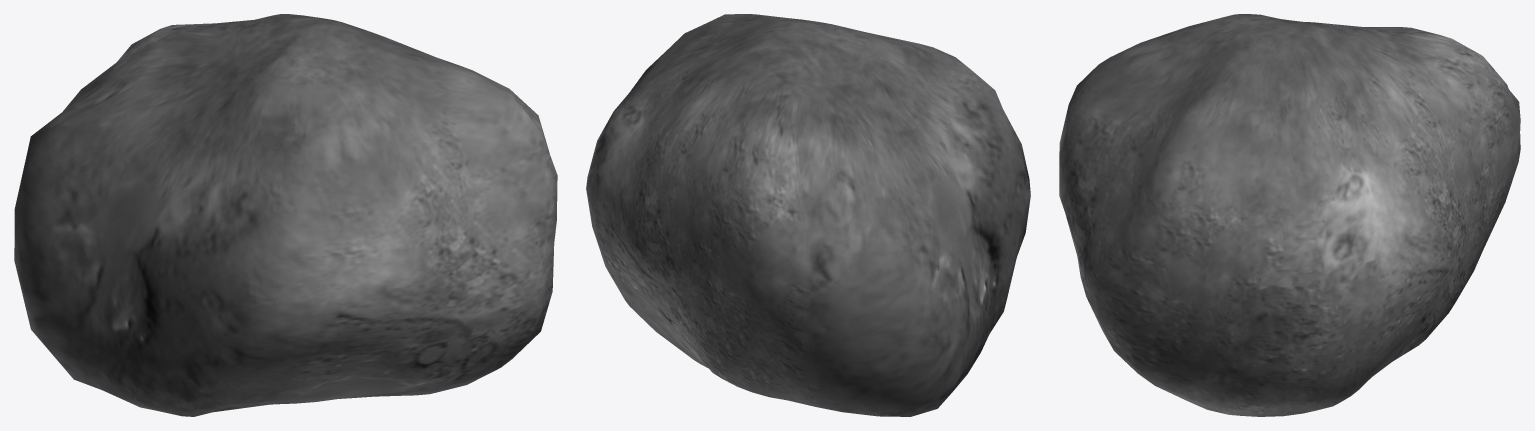
The model's file is tempel_1.glb.
3 renders of one model, left to right at view 1: azimuth 30°, elevation 25°; view 2: azimuth 150°, elevation 25°; view 3: azimuth 270°, elevation 25°, orthographic. The views are drawn at different scales.
Parts seen in each view (by area): view 1: temple_1; view 2: temple_1; view 3: temple_1.
Part boxes in pixels (bbox=[...]): temple_1: bbox=[14, 14, 557, 416]; temple_1: bbox=[586, 14, 1030, 416]; temple_1: bbox=[1059, 14, 1520, 416].
Bounding box in the file's own units: 7735 × 6276 × 7558.
1 material, 1 textured.
